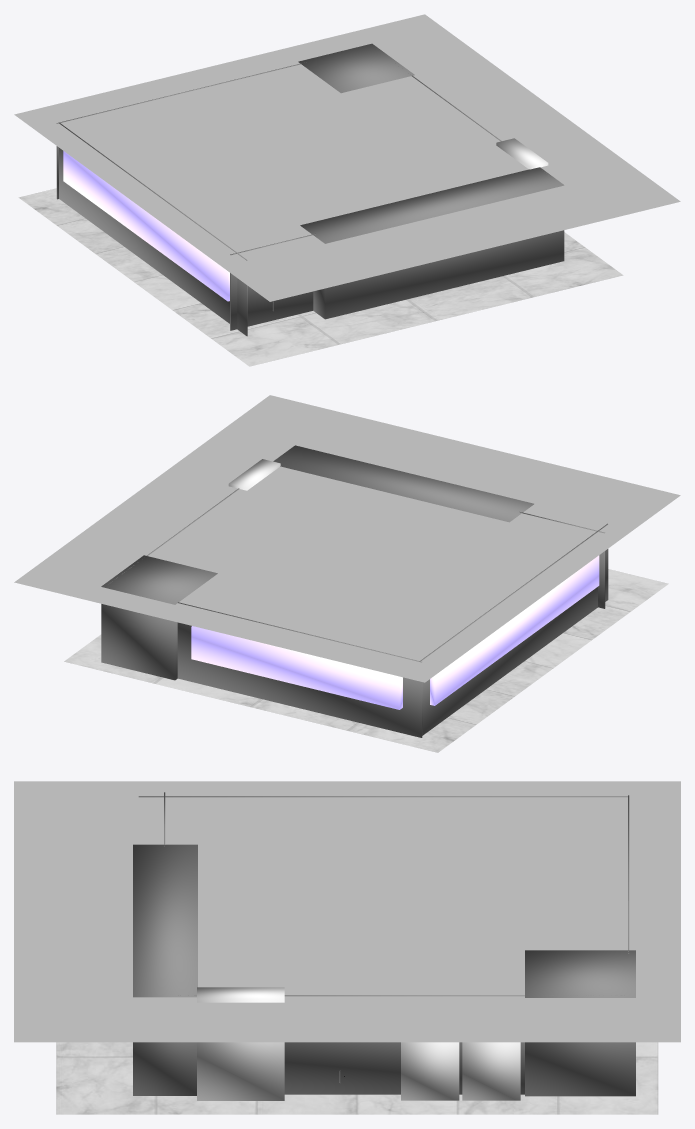
The model's file is Hak2.fbx.
3 views of the same model, one above another, from view 1: azimuth 30°, elevation 25°; view 2: azimuth 150°, elevation 25°; view 3: azimuth 270°, elevation 25° (orthographic). The views are drawn at different scales.
Visible parts, largest first — view 1: Ceiling, Wall, Floor, Windows, Boxes; view 2: Ceiling, Wall, Windows, Floor, Boxes; view 3: Ceiling, Wall, Floor, Boxes.
Boxes of the visible parts, <box> form: Ceiling: <box>14,14,680,301</box>; Wall: <box>56,43,564,336</box>; Floor: <box>18,188,623,366</box>; Windows: <box>63,151,229,301</box>; Boxes: <box>496,138,548,169</box>; Ceiling: <box>14,395,680,682</box>; Wall: <box>101,445,608,737</box>; Windows: <box>191,555,599,709</box>; Floor: <box>64,569,668,752</box>; Boxes: <box>228,459,280,490</box>; Ceiling: <box>14,781,680,1042</box>; Wall: <box>133,792,635,1096</box>; Floor: <box>56,1042,658,1114</box>; Boxes: <box>197,987,520,1100</box>.
Size of the model in its own units: 2421 by 448 by 2585.
